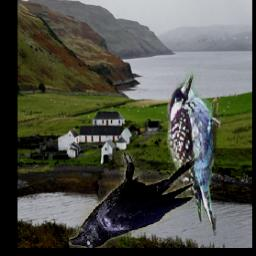Crow: (70, 150, 195, 248)
Woodpecker: (160, 66, 233, 241)
